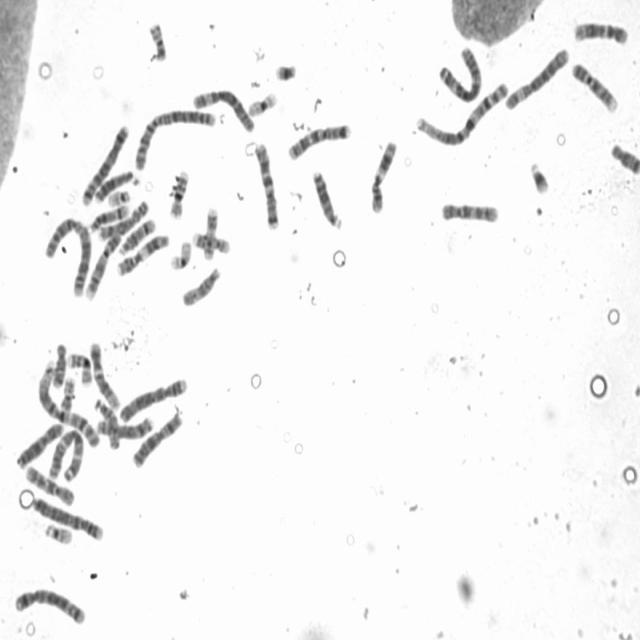A1: (412, 78, 510, 149), (36, 358, 101, 449)
A2: (131, 105, 219, 172), (42, 214, 92, 299)
A3: (434, 42, 482, 106), (45, 425, 85, 483)
B4: (116, 374, 190, 424), (30, 493, 104, 542)
B5: (79, 120, 130, 207), (12, 584, 87, 626)
C10: (23, 462, 76, 508), (437, 200, 501, 224)
C11: (114, 230, 171, 278), (367, 137, 399, 215)
C12: (88, 338, 121, 411), (571, 19, 630, 46)
C6: (502, 44, 570, 112), (190, 85, 256, 134)
C7: (285, 119, 353, 162), (252, 141, 280, 231)
C8: (98, 198, 152, 243), (94, 413, 154, 440)
C9: (83, 230, 123, 300), (570, 59, 618, 113)
D13: (311, 167, 344, 232), (92, 168, 138, 205)
D14: (116, 215, 158, 257), (87, 202, 130, 233)
D15: (180, 262, 222, 309), (92, 395, 120, 451)
E16: (167, 167, 191, 220), (65, 349, 93, 388)
E17: (199, 204, 220, 262), (190, 228, 232, 255)
E18: (608, 139, 639, 176), (51, 339, 68, 389)
F19: (245, 90, 278, 118), (168, 237, 192, 271)
F20: (147, 18, 168, 62), (58, 374, 76, 413)
G21: (527, 158, 551, 195), (272, 60, 298, 82)
G22: (42, 520, 74, 546), (105, 187, 132, 208)
X: (129, 408, 184, 470), (13, 419, 64, 472)
